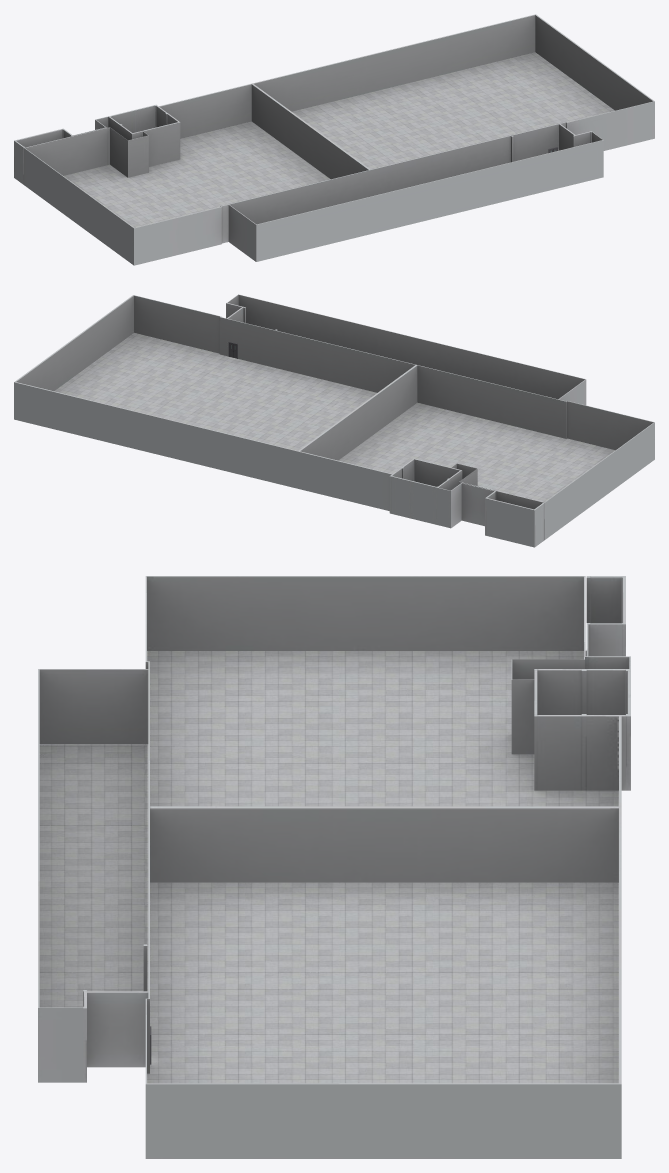
File: LXWZ_5-3F.glb
3 views of the same model, one above another, from view 1: azimuth 30°, elevation 25°; view 2: azimuth 150°, elevation 25°; view 3: azimuth 270°, elevation 25° (orthographic). The views are drawn at different scales.
Size of the model in its own units: 90 by 6.15 by 44.34.
Materials: 2 (2 with a texture image).
